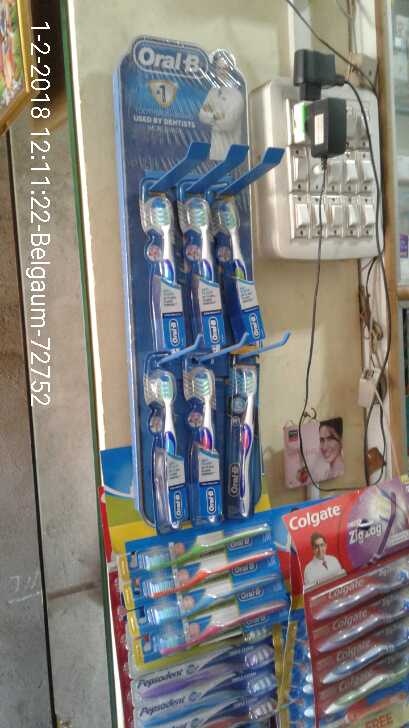oralb: (127, 192, 274, 350), (131, 531, 291, 652), (144, 370, 271, 518)
